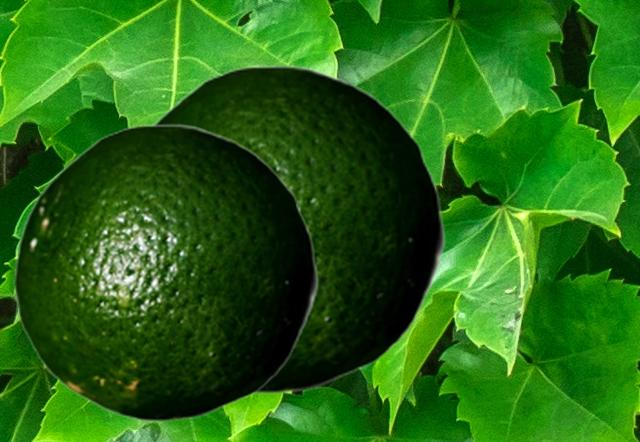calamansi: (149, 64, 445, 393), (13, 123, 318, 421)
